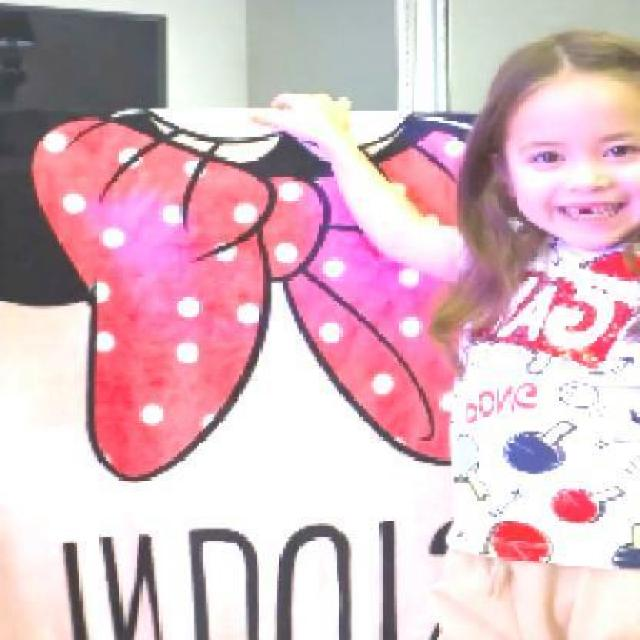child: (243, 28, 640, 638)
